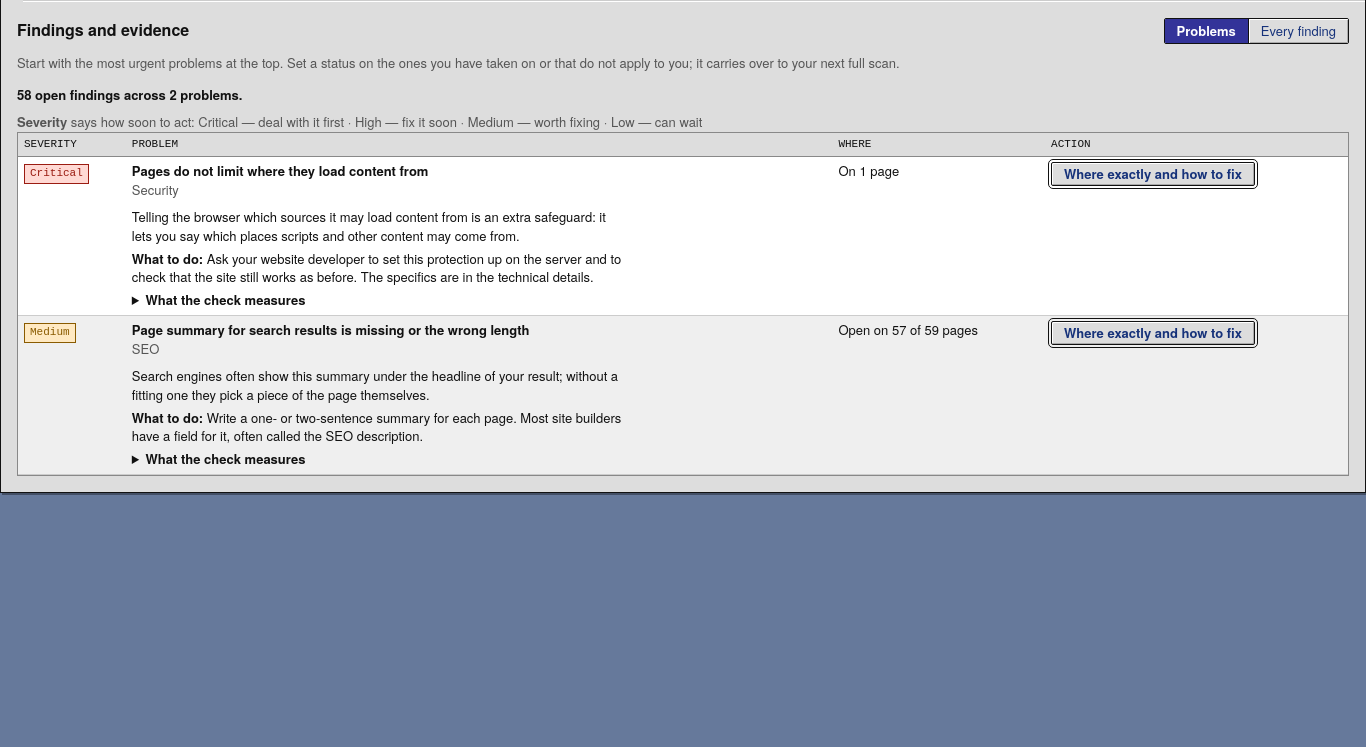
Scenario: the Issue Center › pages past the first 50 and says how many there are
This screenshot has width=1366, height=747.
Click the button "Every finding".
click(1298, 31)  # box [1249,19,1348,43]
(page scrolled)
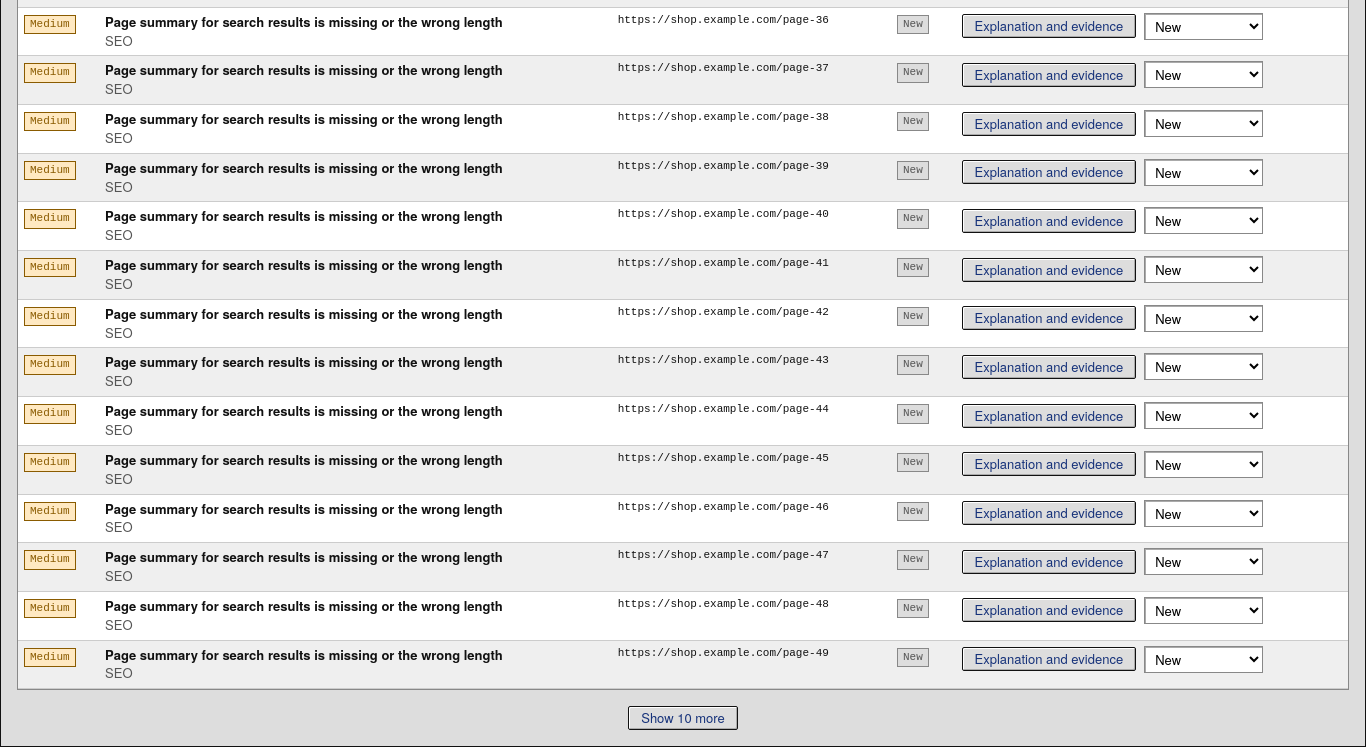
Click the button "Show 10 more".
click(683, 718)  # box [628,706,738,730]
(page scrolled)
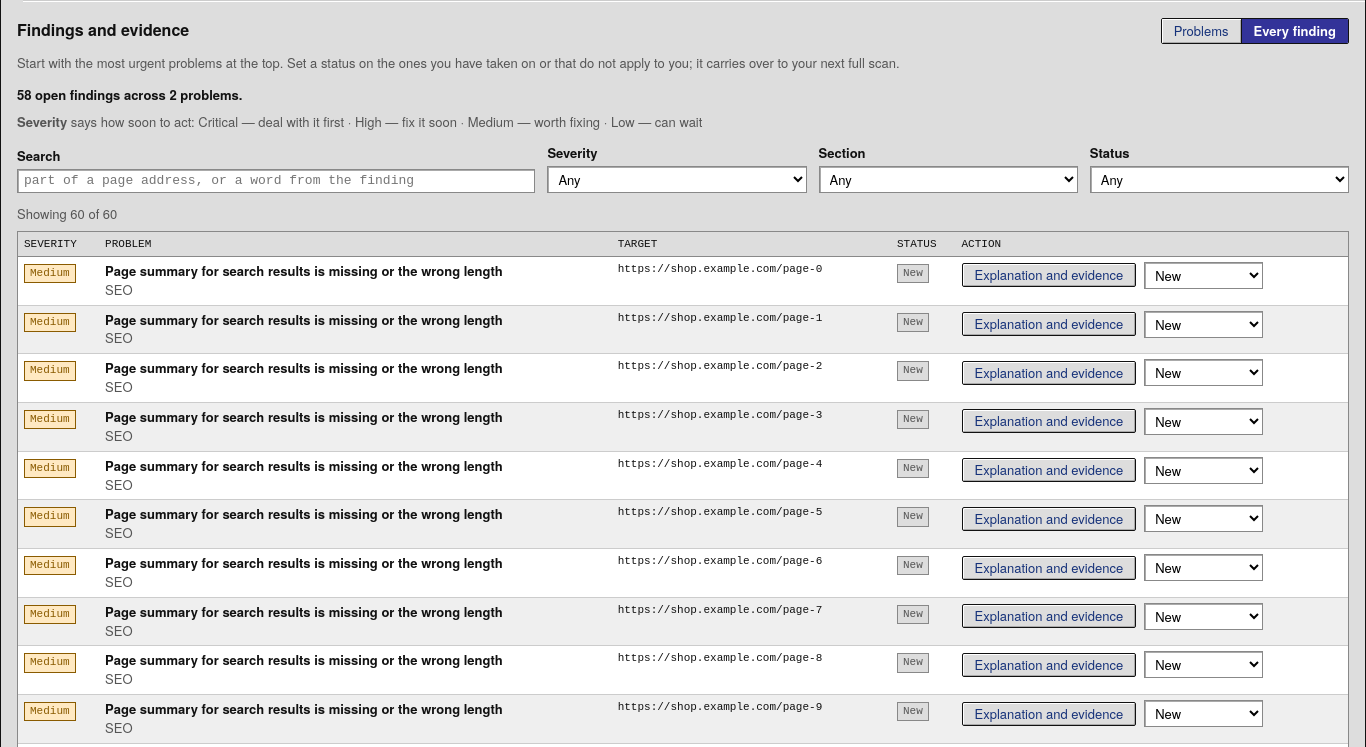
Expected: the text "Showing 60 of 60" is shown, [17,204,117,223]
Expected: the button "more" is gone
